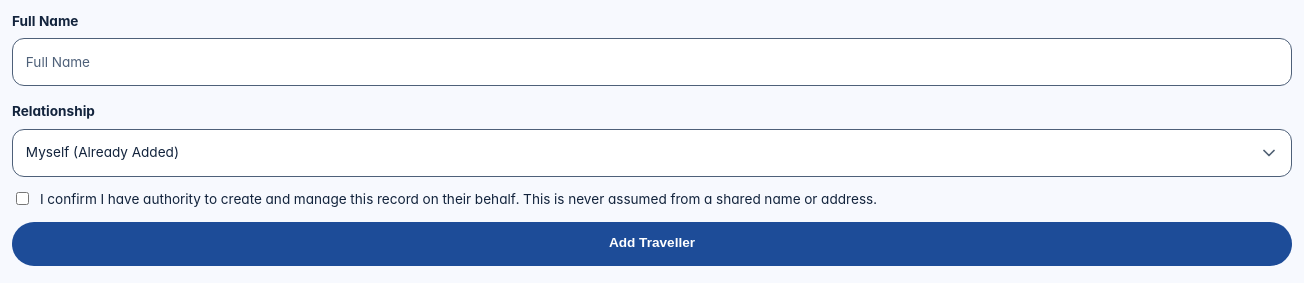
Add an Applicant: who the new record is for (owner finding 7) › keeps Myself a choice, as the service allows, and says what choosing it again does
Select "Myself (Already Added)" in the dropdown named "relationship" at point(652, 153), box [12,129,1292,177]
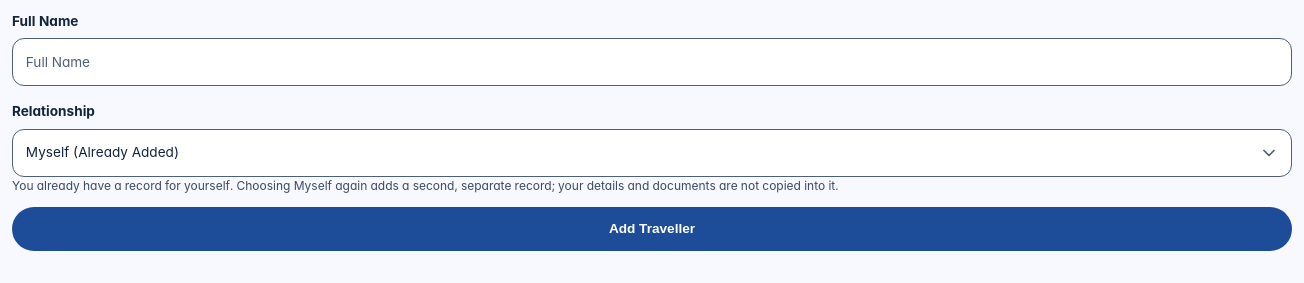
Check: the checkbox named "authorityConfirmed" is gone
